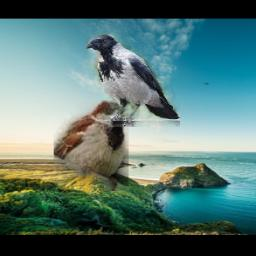Crow: (87, 34, 180, 127)
Sparrow: (54, 101, 129, 192)
